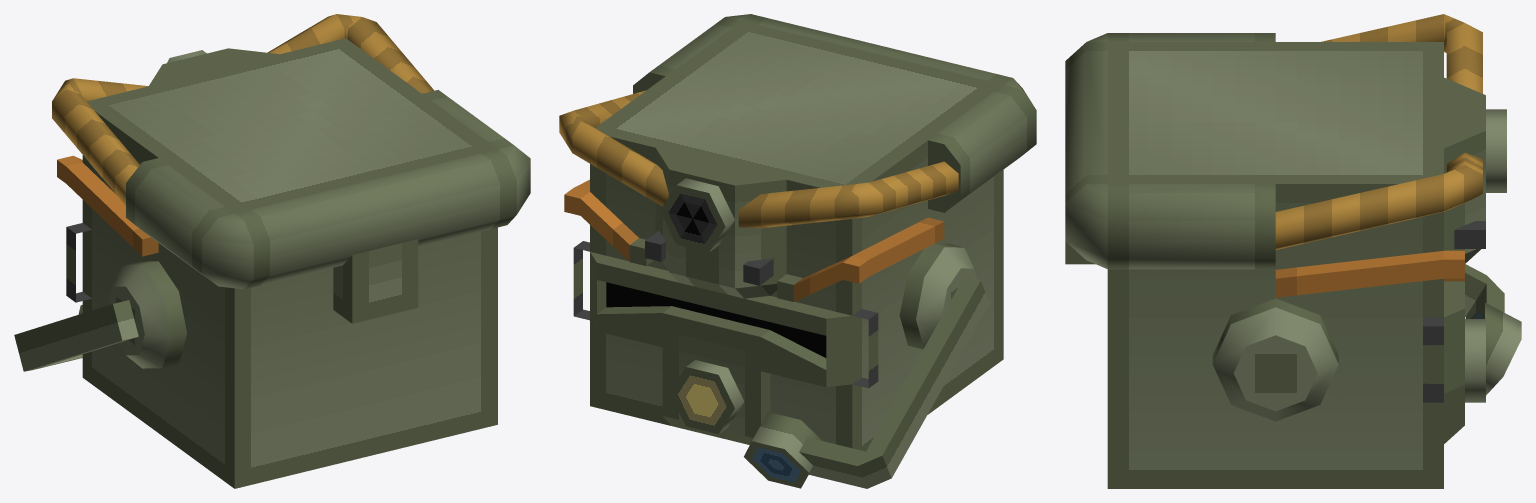
File: helmet.obj
The picture shows the model from 3 angles, left to right: view 1: azimuth 30°, elevation 25°; view 2: azimuth 150°, elevation 25°; view 3: azimuth 270°, elevation 25°; orthographic projection. The views are drawn at different scales.
Parts seen in each view (by area): view 1: Helmet; view 2: Helmet; view 3: Helmet.
Boxes of the visible parts, bbox=[...] form: Helmet: bbox=[14, 14, 530, 488]; Helmet: bbox=[559, 14, 1036, 488]; Helmet: bbox=[1065, 14, 1521, 488].
Bounding box in the file's own units: 11.16 × 9.43 × 11.52.
Materials: 1 (1 with a texture image).
